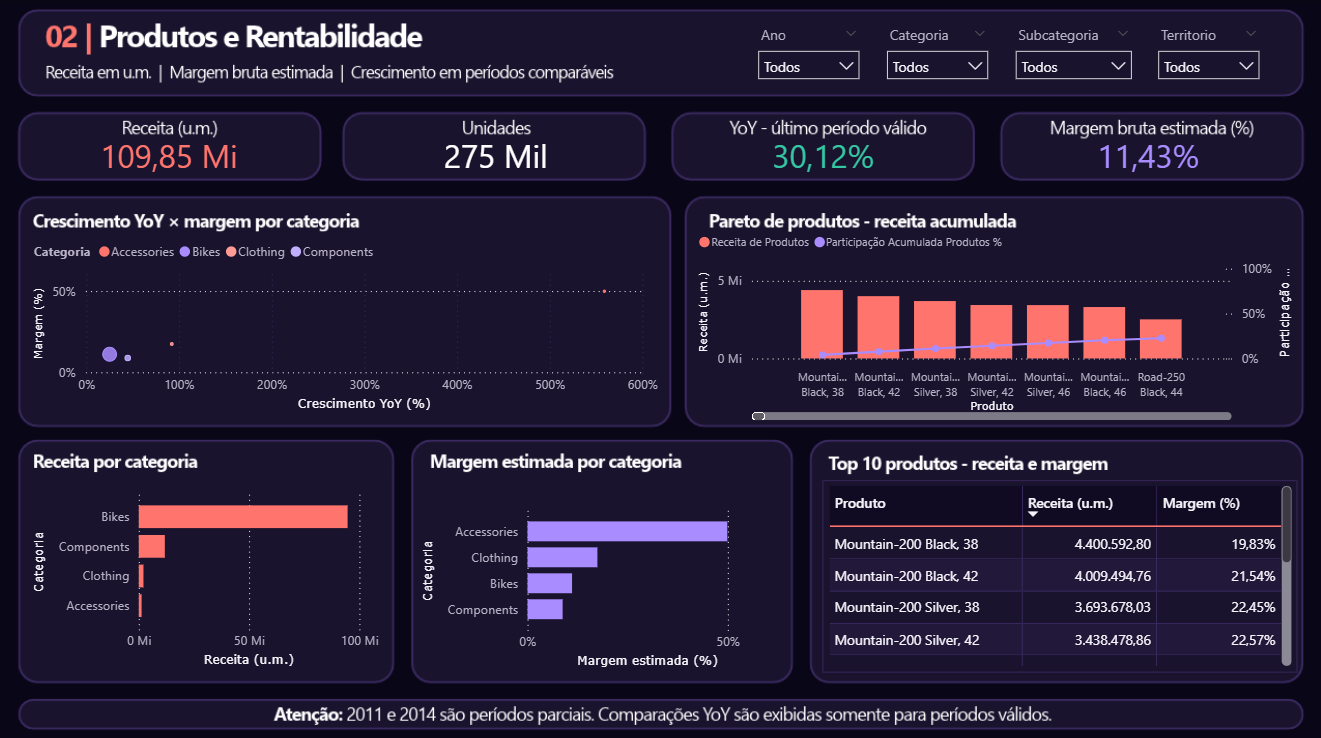

The page's visual inventory and layout, read from the dashboard file:
{"tool":"powerbi","page":{"name":"02 | Produtos e Rentabilidade","canvas":[1280,720],"ordinal":1},"visuals":[{"type":"slicer","fields":{"Values":["DimCalendario.Ano"]},"box":[721.4,20,118,68.6],"z":0},{"type":"slicer","fields":{"Values":["DimProduto.Categoria"]},"box":[845.6,20,118,68],"z":1000},{"type":"slicer","fields":{"Values":["DimProduto.Subcategoria"]},"box":[969.8,20,132,68.8],"z":2000},{"type":"slicer","fields":{"Values":["DimTerritorio.Territorio"]},"box":[1108,20,118,68],"z":3000},{"type":"card","title":"Receita (u.m.)","fields":{"Values":["Medidas.Receita de Produtos"]},"box":[17.1,131.4,292.9,41.4],"z":4000},{"type":"card","title":"Unidades","fields":{"Values":["Medidas.Unidades Vendidas"]},"box":[332.9,131.4,291.4,41.4],"z":5000},{"type":"card","title":"YoY: ano/mês válido","fields":{"Values":["Medidas.Crescimento YoY %"]},"box":[650,131.4,288.6,41.4],"z":6000},{"type":"card","title":"Margem estimada %","fields":{"Values":["Medidas.Margem Bruta Estimada %"]},"box":[964.3,131.4,288.6,41.4],"z":7000},{"type":"barChart","title":"Receita por categoria","fields":{"Category":["DimProduto.Categoria"],"Y":["Medidas.Receita de Produtos"]},"box":[27.5,465,343.3,185],"z":9000},{"type":"barChart","title":"Margem estimada por categoria","fields":{"Category":["DimProduto.Categoria"],"Y":["Medidas.Margem Bruta Estimada %"]},"box":[403.3,481.3,355.3,168.7],"z":10000},{"type":"lineClusteredColumnComboChart","title":"Pareto de produtos — ordem de receita","fields":{"Category":["DimProduto.NomeProduto"],"Y":["Medidas.Receita de Produtos"],"Y2":["Medidas.Participação Acumulada Produtos %"]},"box":[669.1,215.5,583.6,195.5],"z":11000},{"type":"tableEx","title":"Produtos — receita e margem","fields":{"Values":["DimProduto.NomeProduto","Medidas.Receita de Produtos","Medidas.Margem Bruta Estimada %"]},"box":[793.3,464.7,458.7,185.3],"z":12000},{"type":"scatterChart","title":"Categorias: crescimento YoY × margem","fields":{"X":["Medidas.Crescimento YoY %"],"Y":["Medidas.Margem Bruta Estimada %"],"Size":["Medidas.Receita de Produtos"],"Series":["DimProduto.Categoria"]},"box":[27.5,225,612.5,177.5],"z":13000}]}

Visuals, with their boxes in screenshot pixels (x1, y1, x2, y2), scaled from the page's 1280x720 canvas onto the 1321x738 screenshot:
slicer - DimCalendario.Ano: [745, 20, 866, 91]
slicer - DimProduto.Categoria: [873, 20, 994, 90]
slicer - DimProduto.Subcategoria: [1001, 20, 1137, 91]
slicer - DimTerritorio.Territorio: [1143, 20, 1265, 90]
"Receita (u.m.)" card: [18, 135, 320, 177]
"Unidades" card: [344, 135, 644, 177]
"YoY: ano/mês válido" card: [671, 135, 969, 177]
"Margem estimada %" card: [995, 135, 1293, 177]
"Receita por categoria" barChart: [28, 477, 383, 666]
"Margem estimada por categoria" barChart: [416, 493, 783, 666]
"Pareto de produtos — ordem de receita" lineClusteredColumnComboChart: [691, 221, 1293, 421]
"Produtos — receita e margem" tableEx: [819, 476, 1292, 666]
"Categorias: crescimento YoY × margem" scatterChart: [28, 231, 660, 413]
